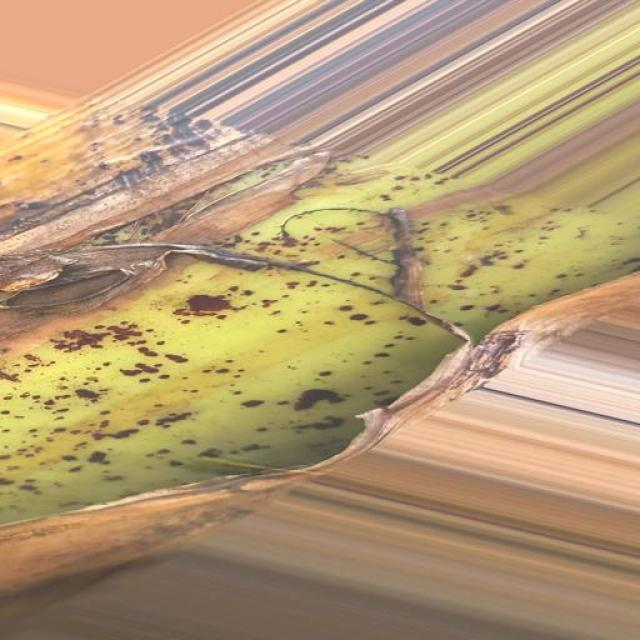Anthracnose: (4, 66, 640, 517)
